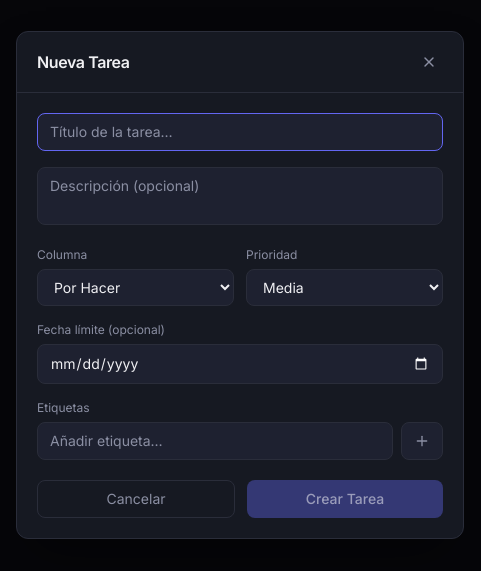
Test case: CreateTaskModal — etiquetas › elimina una etiqueta al hacer click en ×
Type "eliminar" into the field with placeholder "Añadir etiqueta…" at (215, 441), box 37,422 -> 393,460
Then press Enter
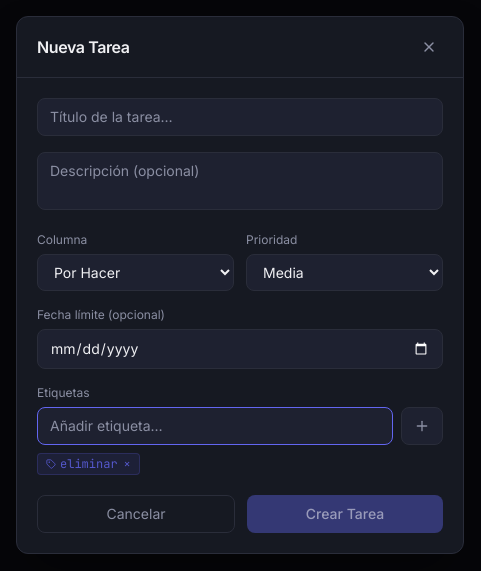
Expected: the text "eliminar" is shown, 60,456 -> 118,472
Click the button "×" at (127, 464), box 124,456 -> 131,472
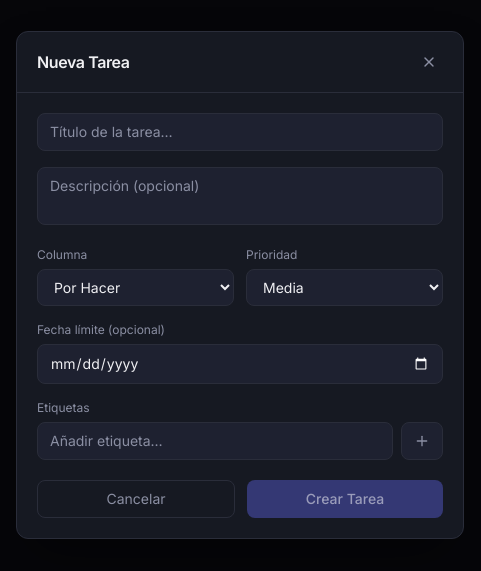
Expected: the text "eliminar" is gone
